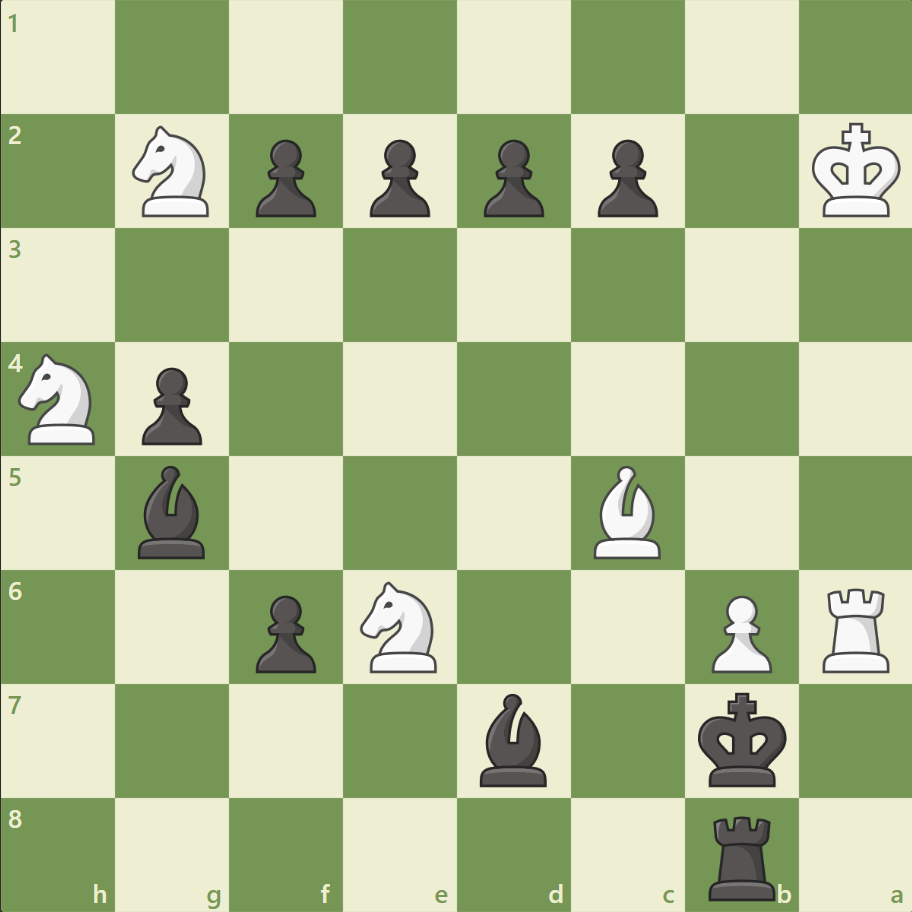B: (585, 460, 669, 563)
K: (806, 117, 906, 225)
N: (351, 575, 449, 677), (124, 121, 222, 223), (11, 348, 108, 450)
P: (701, 586, 776, 677)
R: (814, 579, 897, 676)
b: (471, 687, 555, 790), (131, 460, 215, 563)
k: (692, 685, 792, 793)
p: (247, 586, 322, 677), (133, 359, 208, 450), (474, 132, 549, 223), (247, 132, 322, 223), (588, 132, 662, 223), (361, 132, 435, 223)
r: (700, 806, 783, 904)
